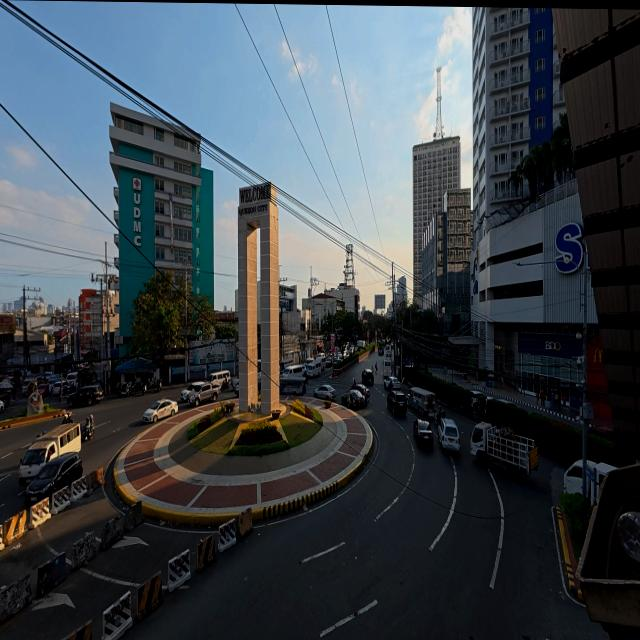car: (142, 399, 178, 426), (68, 382, 104, 407), (414, 418, 436, 448)
